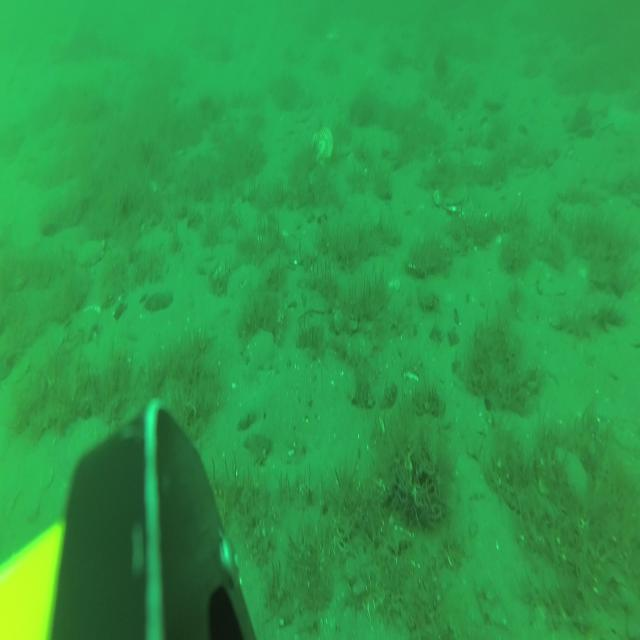scallop: (69, 417, 106, 466), (243, 329, 277, 374), (433, 183, 467, 215), (310, 128, 332, 166), (76, 240, 104, 266)
